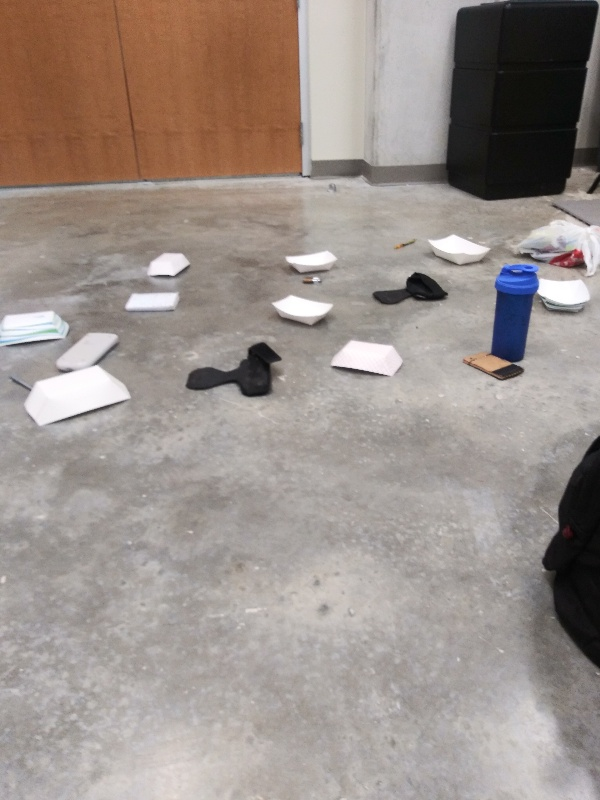plate: (22, 363, 136, 433), (326, 336, 406, 381), (1, 307, 76, 349), (423, 231, 495, 266), (272, 292, 337, 329), (536, 274, 593, 316), (142, 249, 190, 282), (282, 249, 339, 273)
